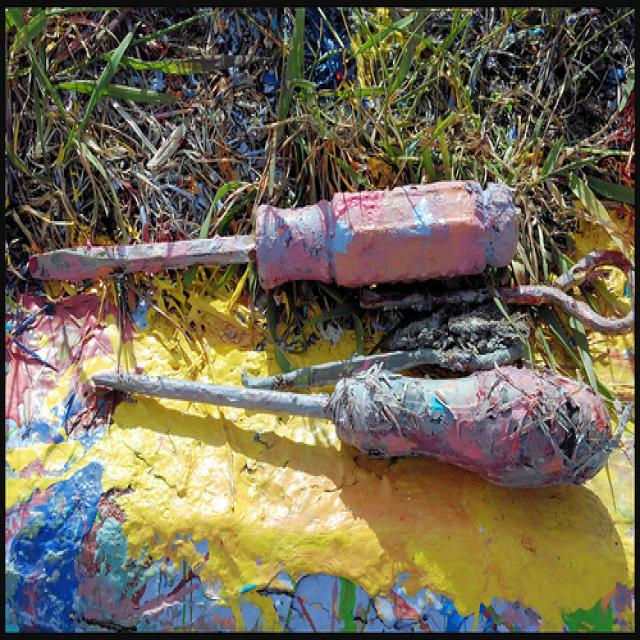screw driver: (87, 324, 640, 501), (0, 163, 574, 327)
